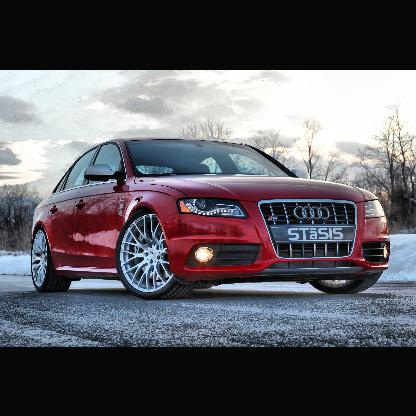Audi S4 Sedan 2012: (27, 135, 391, 301)
